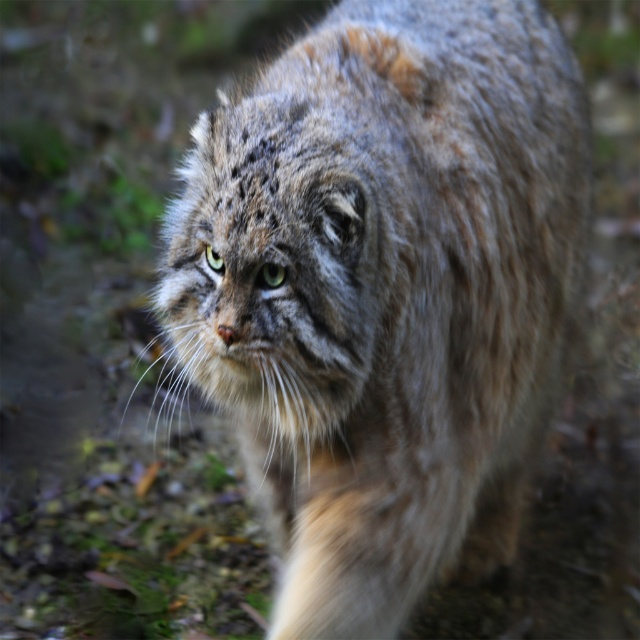Lynx: (122, 0, 596, 639)
